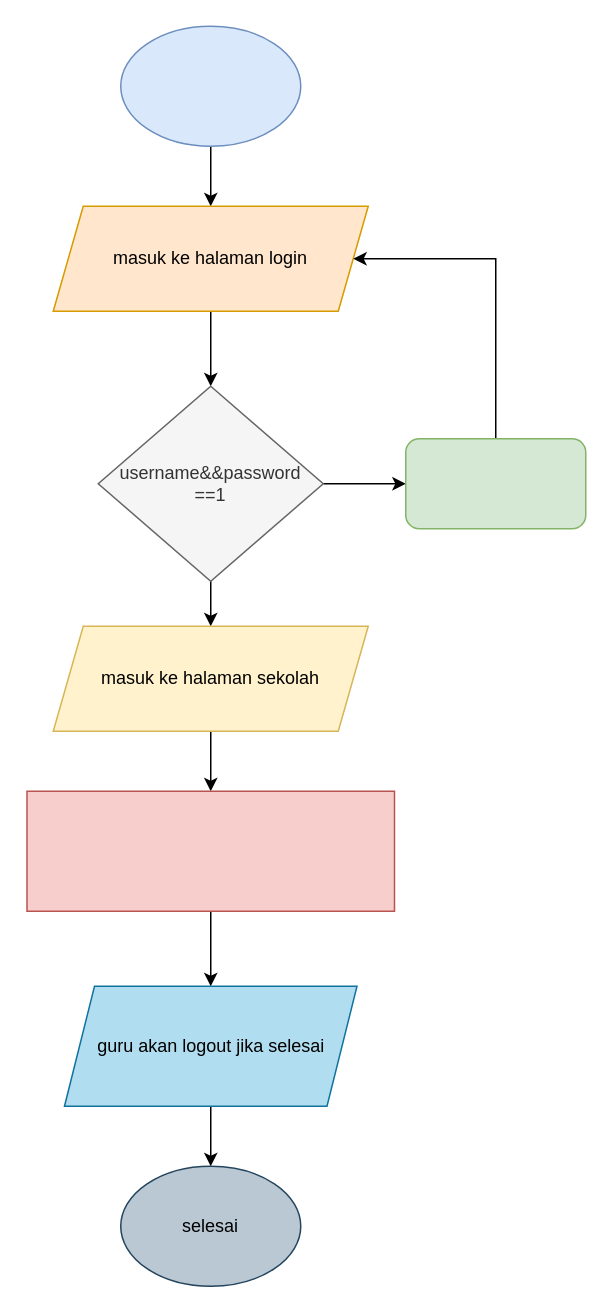
Some shapes in this 612 by 1313 pixel diagram are drawn without their labels. The box of each missing label's shape, as (x1, y1, x2, y2) in pixels:
kembali ke form login: (404, 437, 586, 529)
lihat,input,edit dan hapus data siswa: (26, 790, 394, 911)
mulai: (119, 25, 301, 146)
